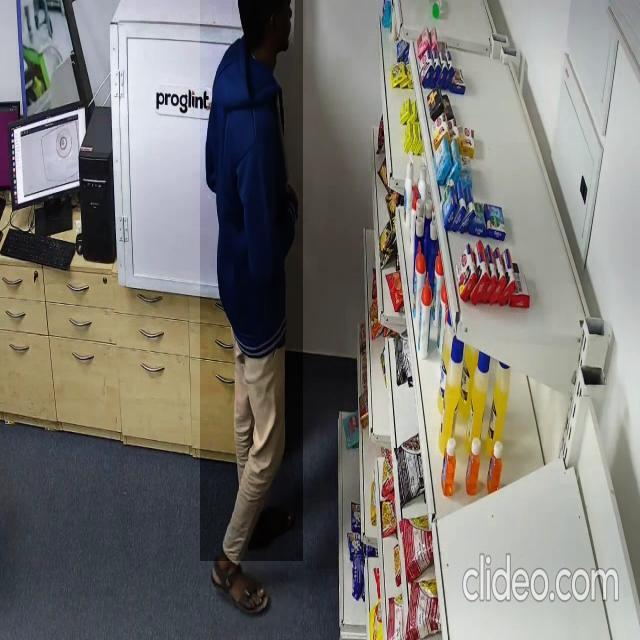Shoplifting: (200, 0, 303, 561)
